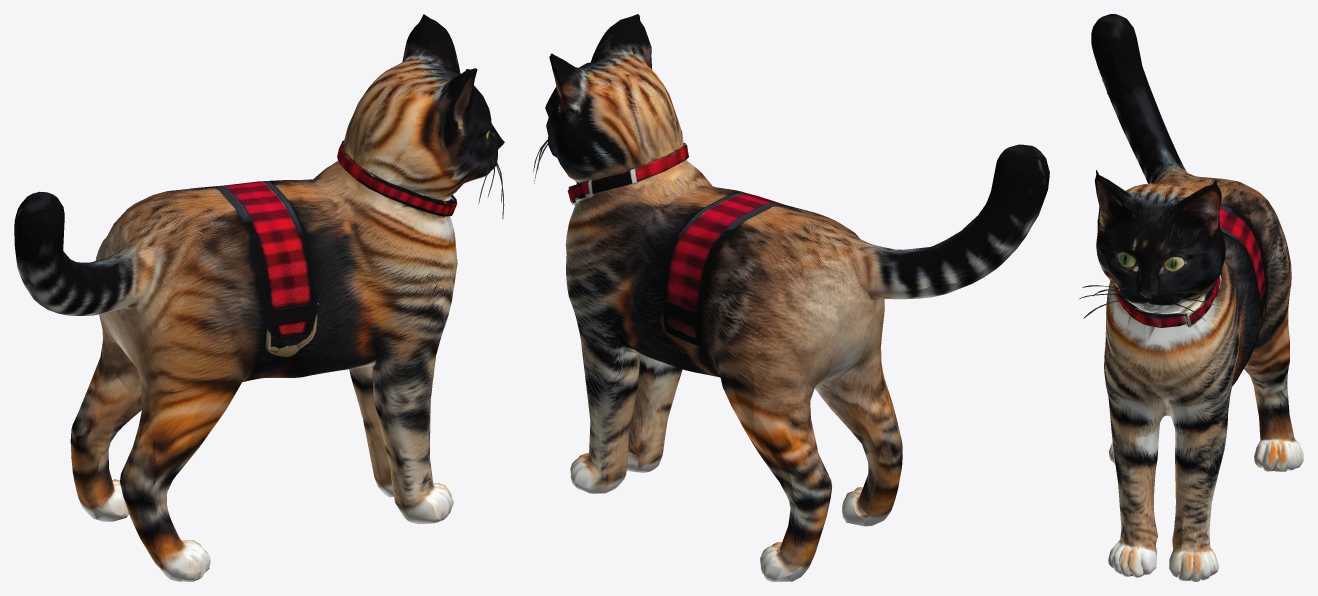
File: VENUS2F.glb
3 renders of one model, left to right at view 1: azimuth 30°, elevation 25°; view 2: azimuth 150°, elevation 25°; view 3: azimuth 270°, elevation 25°, orthographic. The views are drawn at different scales.
Parts seen in each view (by area): view 1: fit; view 2: fit; view 3: fit.
Boxes of the visible parts, x1,y1,x2,y2 form: fit: (14, 14, 504, 581); fit: (533, 14, 1049, 581); fit: (1079, 14, 1303, 581).
Size of the model in its own units: 1.15 by 1 by 0.4981.
Materials: 1 (1 with a texture image).
